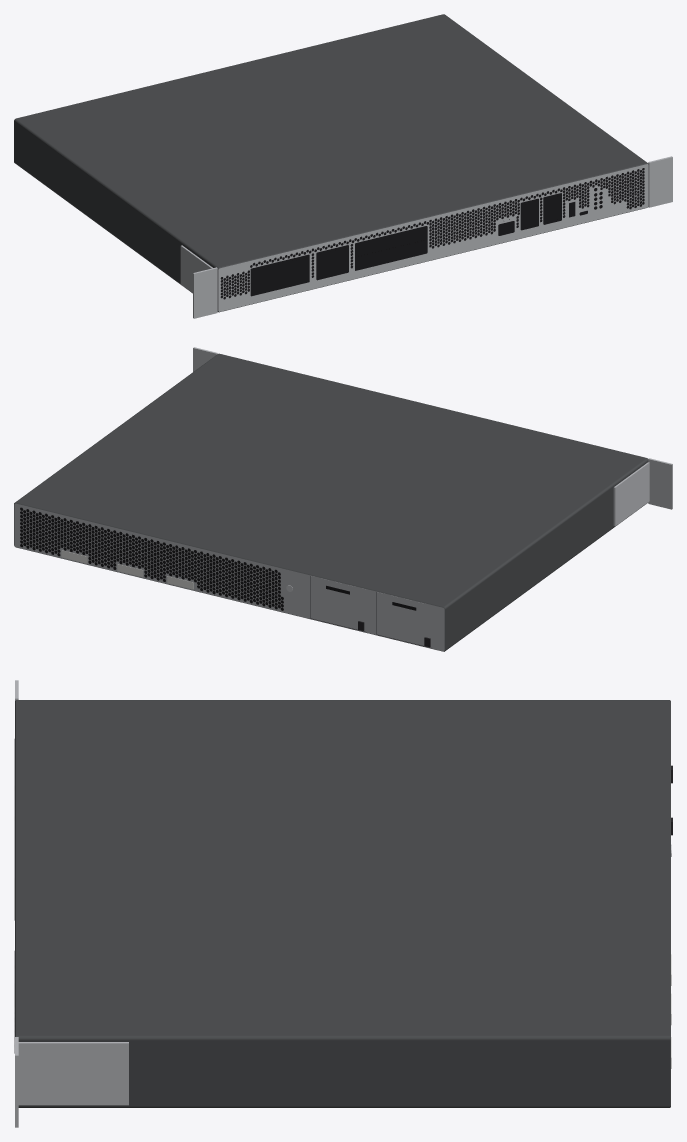
File: PA-1420.far.glb
3 renders of one model, top to bottom at view 1: azimuth 30°, elevation 25°; view 2: azimuth 150°, elevation 25°; view 3: azimuth 270°, elevation 25°, orthographic. The views are drawn at different scales.
Visible parts, largest first — view 1: Shell_far; view 2: Shell_far, empty:PS2, empty:PS1; view 3: Shell_far.
Part boxes in pixels (bbox=[...]): Shell_far: bbox=[14, 14, 672, 318]; Shell_far: bbox=[14, 347, 672, 651]; empty:PS2: bbox=[310, 576, 365, 631]; empty:PS1: bbox=[376, 592, 431, 647]; Shell_far: bbox=[14, 680, 671, 1127].
Size of the model in its own units: 0.4826 by 0.0432 by 0.3579.
2 materials, 1 textured.
